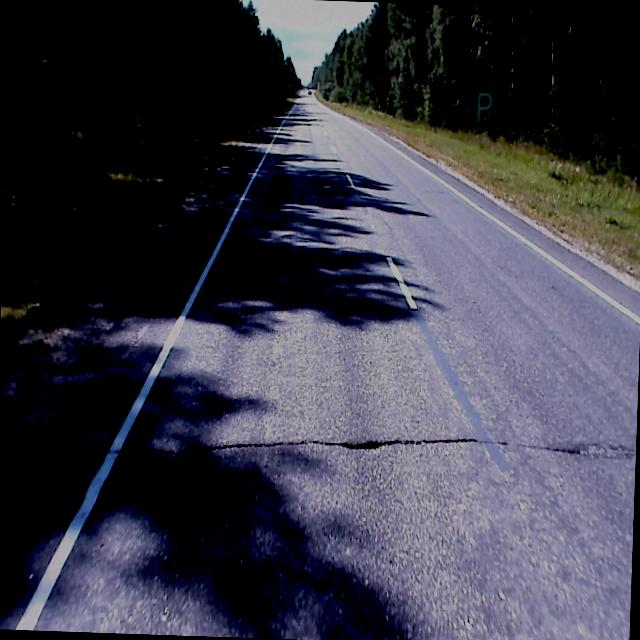road: (0, 87, 640, 640)
